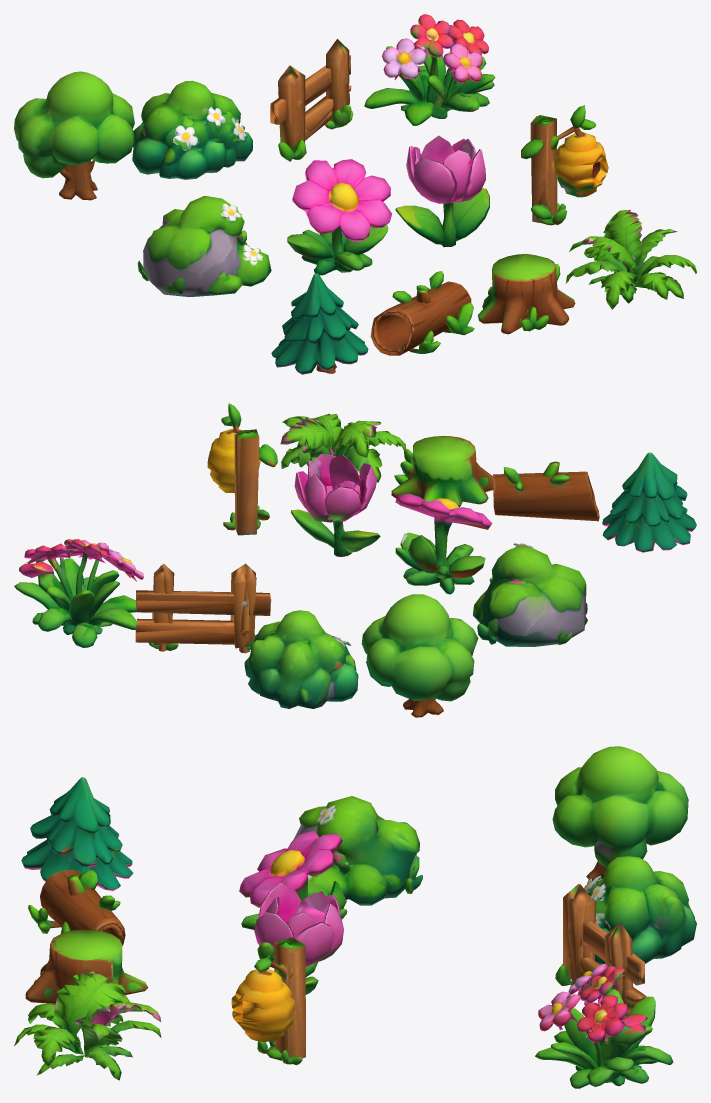
File: meshy_batch1.glb
3 views of the same model, one above another, from view 1: azimuth 30°, elevation 25°; view 2: azimuth 150°, elevation 25°; view 3: azimuth 270°, elevation 25° (orthographic). The views are drawn at different scales.
Bounding box in the file's own units: 0.8472 × 0.2085 × 0.9536.
1 material, 1 textured.
